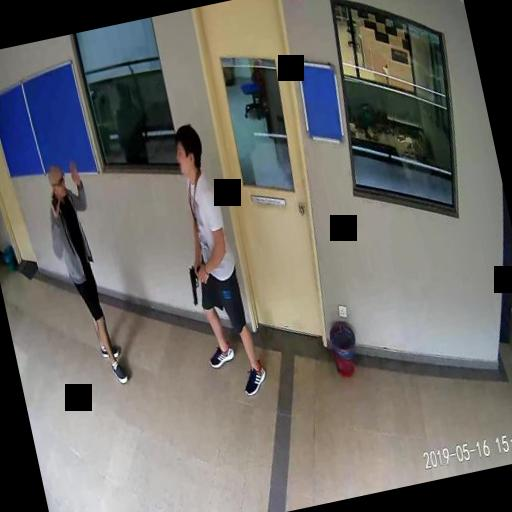Handgun: (184, 261, 207, 304)
